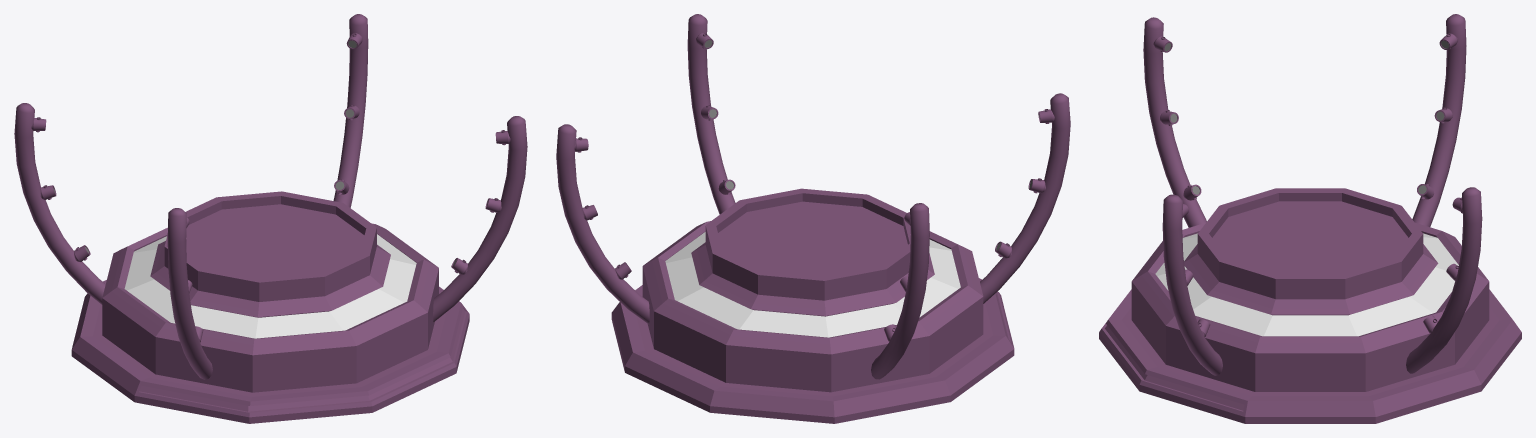
File: lamp.fbx
3 views of the same model, side by side, from view 1: azimuth 30°, elevation 25°; view 2: azimuth 150°, elevation 25°; view 3: azimuth 270°, elevation 25° (orthographic). The views are drawn at different scales.
Visible parts, largest first — view 1: Cylinder.003, Cylinder.001, Cylinder.012; view 2: Cylinder.003, Cylinder.001, Cylinder.012; view 3: Cylinder.003, Cylinder.001, Cylinder.012.
Boxes of the visible parts, x1,y1,x2,y2 form: Cylinder.003: (14,14,527,392); Cylinder.001: (124,191,416,338); Cylinder.012: (71,280,469,423); Cylinder.003: (556,14,1070,392); Cylinder.001: (665,188,960,337); Cylinder.012: (611,278,1014,423); Cylinder.003: (1131,14,1489,391); Cylinder.001: (1155,188,1458,336); Cylinder.012: (1099,289,1521,423).
Size of the model in its own units: 475 by 274 by 448.
